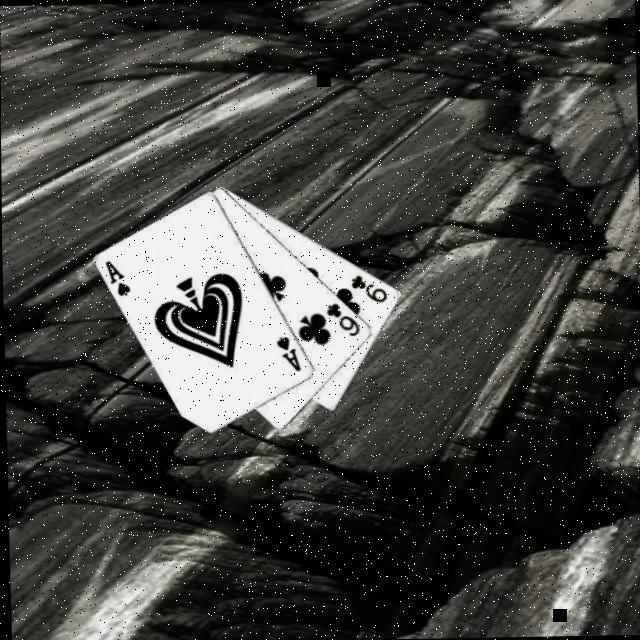6C: (321, 300, 360, 341)
9C: (345, 272, 388, 308)
AS: (100, 258, 131, 301), (270, 334, 300, 376)
